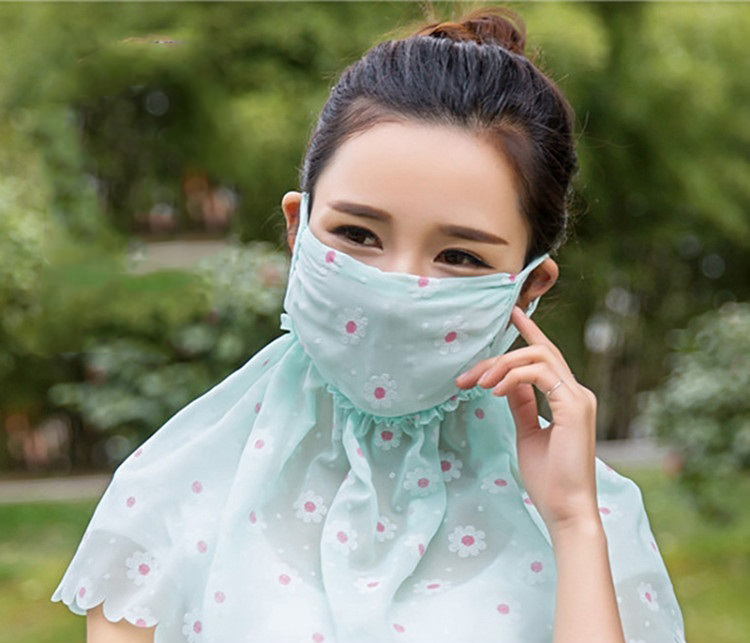face_mask: (294, 119, 526, 408)
